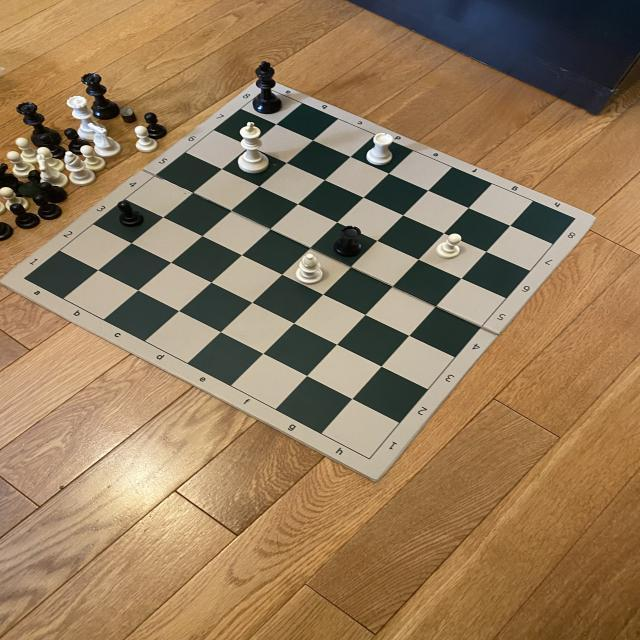chess-table-corners: (17, 272, 33, 282), (566, 215, 584, 222), (365, 453, 378, 462)
